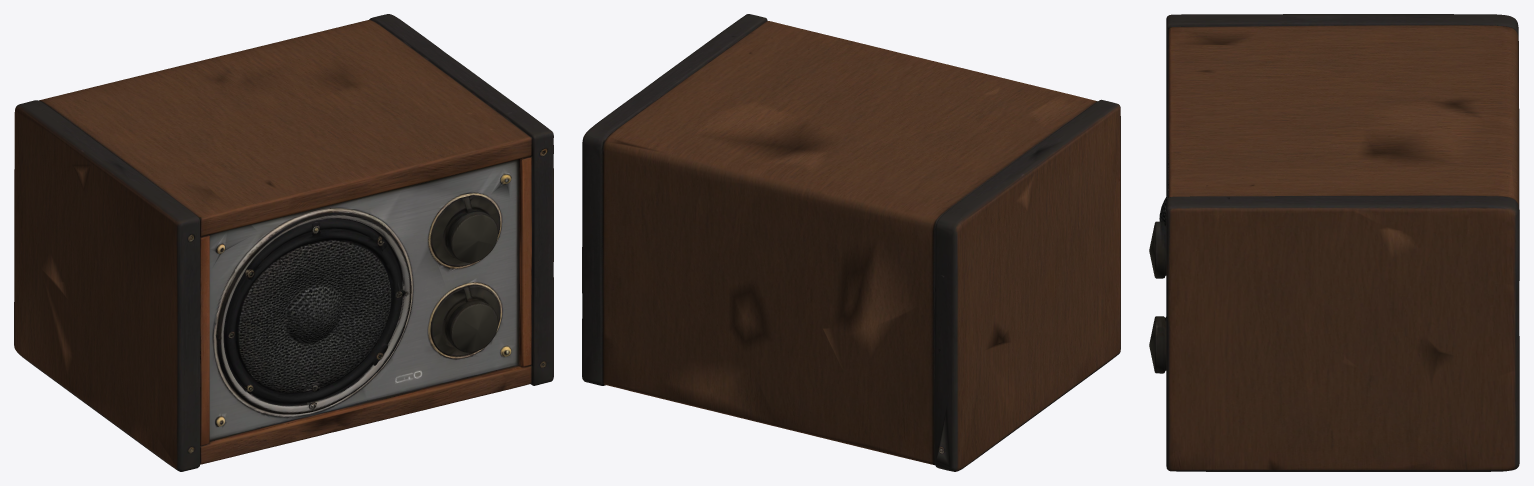
Rendered from radio.glb.
3 renders of one model, left to right at view 1: azimuth 30°, elevation 25°; view 2: azimuth 150°, elevation 25°; view 3: azimuth 270°, elevation 25°, orthographic. The views are drawn at different scales.
Visible parts, largest first — view 1: node_0; view 2: node_0; view 3: node_0.
Part boxes in pixels (x1,y1,x2,y2): node_0: (14,14,553,471); node_0: (582,14,1120,471); node_0: (1149,14,1519,471).
Bounding box in the file's own units: 0.8514 × 0.546 × 0.6857.
1 material, 1 textured.
